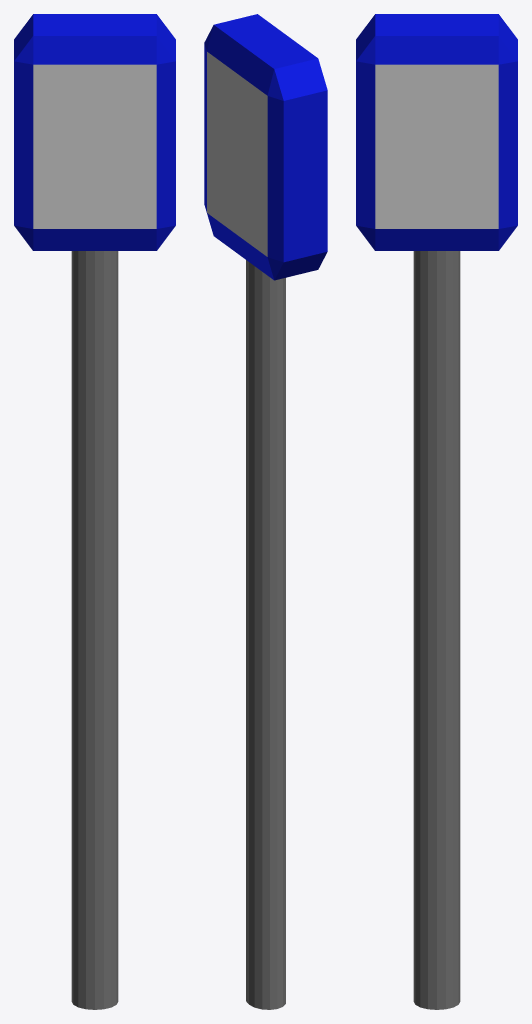
Rendered from BusStopSignblend.fbx.
3 views of the same model, side by side, from view 1: azimuth 90°, elevation 25°; view 2: azimuth 210°, elevation 25°; view 3: azimuth 270°, elevation 25° (orthographic).
Parts seen in each view (by area): view 1: Cube, Cylinder; view 2: Cylinder, Cube; view 3: Cube, Cylinder.
Boxes of the visible parts, x1=… form: Cube: x1=14, y1=14, x2=175, y2=250; Cylinder: x1=71, y1=251, x2=118, y2=1009; Cylinder: x1=246, y1=260, x2=285, y2=1009; Cube: x1=204, y1=14, x2=327, y2=280; Cube: x1=356, y1=14, x2=517, y2=250; Cylinder: x1=413, y1=251, x2=460, y2=1009.
Bounding box in the file's own units: 57.01 × 907 × 136.
